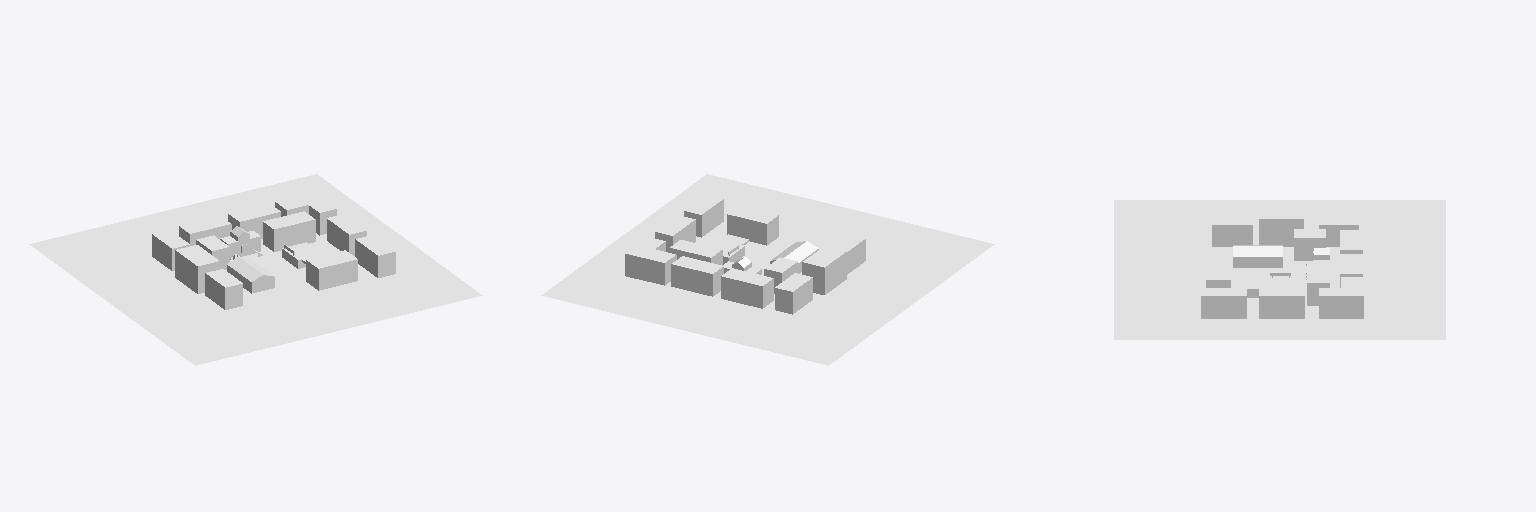
Rendered from probuilder blockout.obj.
3 renders of one model, left to right at view 1: azimuth 30°, elevation 25°; view 2: azimuth 150°, elevation 25°; view 3: azimuth 270°, elevation 25°, orthographic.
Parts seen in each view (by area): view 1: probuilder blockout; view 2: probuilder blockout; view 3: probuilder blockout.
Part boxes in pixels (left/top/right/bottom): probuilder blockout: left=29, top=174, right=482, bottom=365; probuilder blockout: left=541, top=174, right=994, bottom=365; probuilder blockout: left=1114, top=200, right=1445, bottom=339.
Bounding box in the file's own units: 200 × 18.5 × 200.